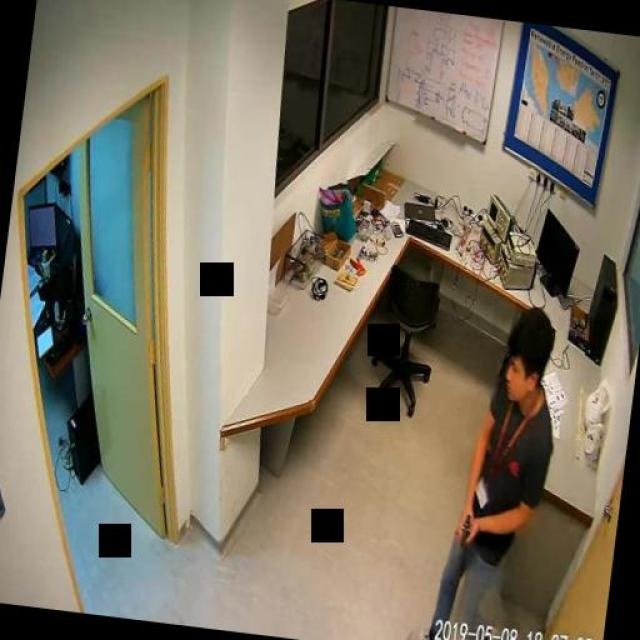gun: (447, 510, 472, 586)
